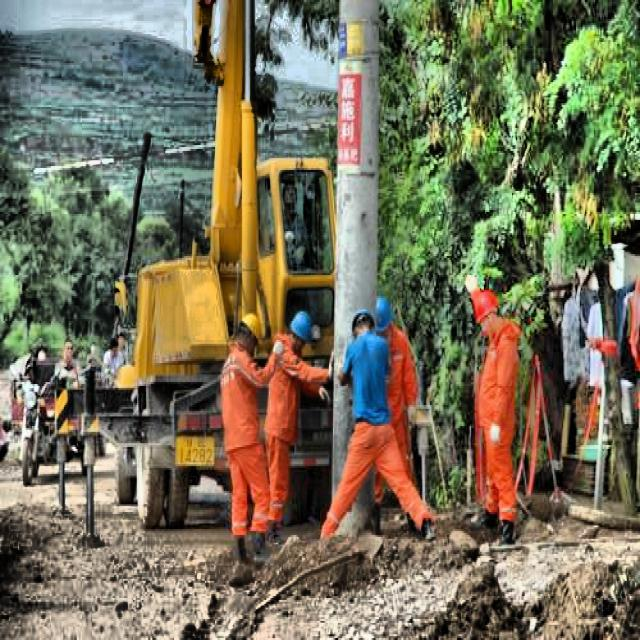helmet: (470, 292, 500, 340), (230, 314, 262, 358), (283, 307, 313, 353), (372, 294, 397, 342), (344, 306, 372, 344)
